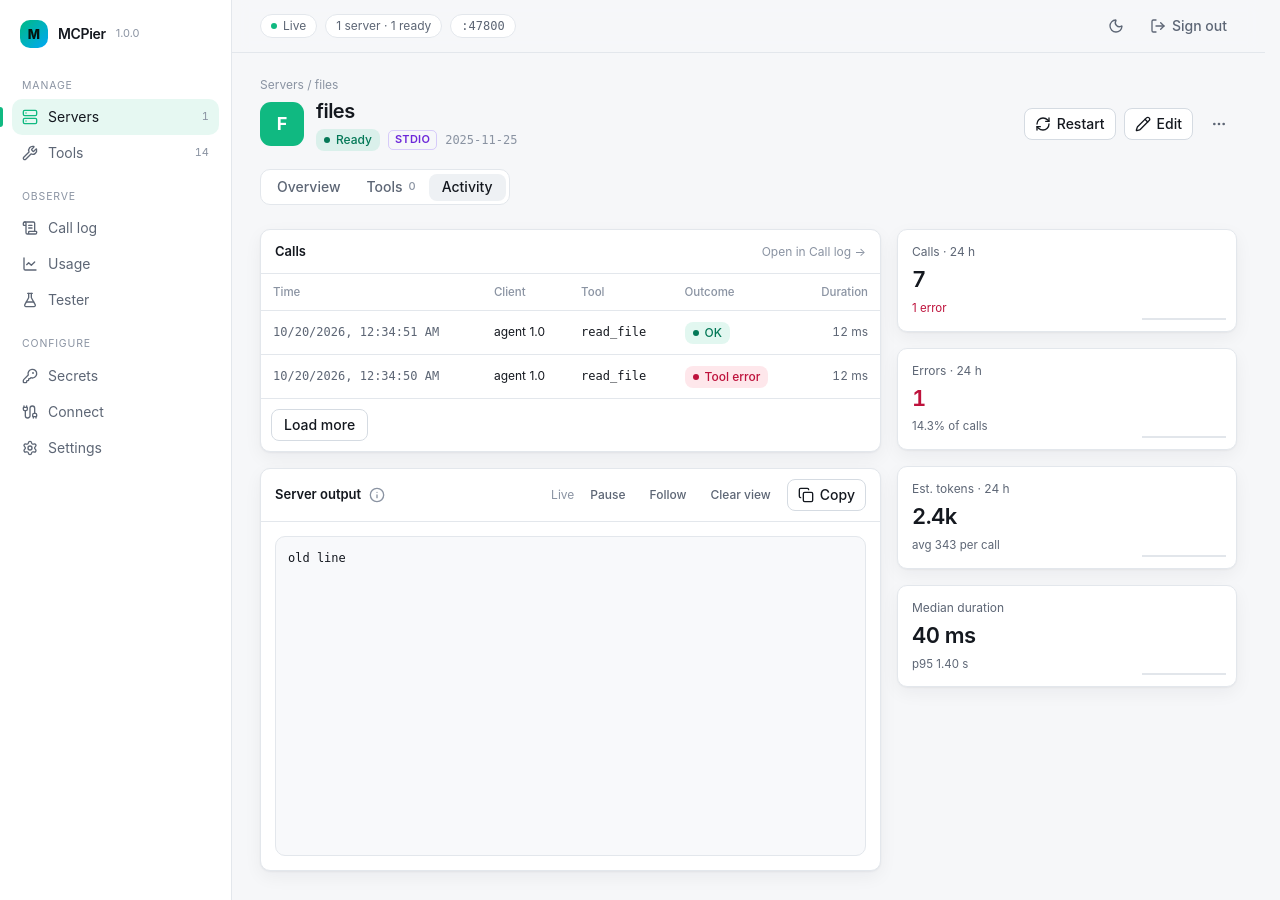
Test: Activity tab: calls › Load more fetches the next page with the cursor and appends it
The width and height of the screenshot is (1280, 900).
Click the button "Load more": [320, 424] box x1=271 y1=408 x2=368 y2=440
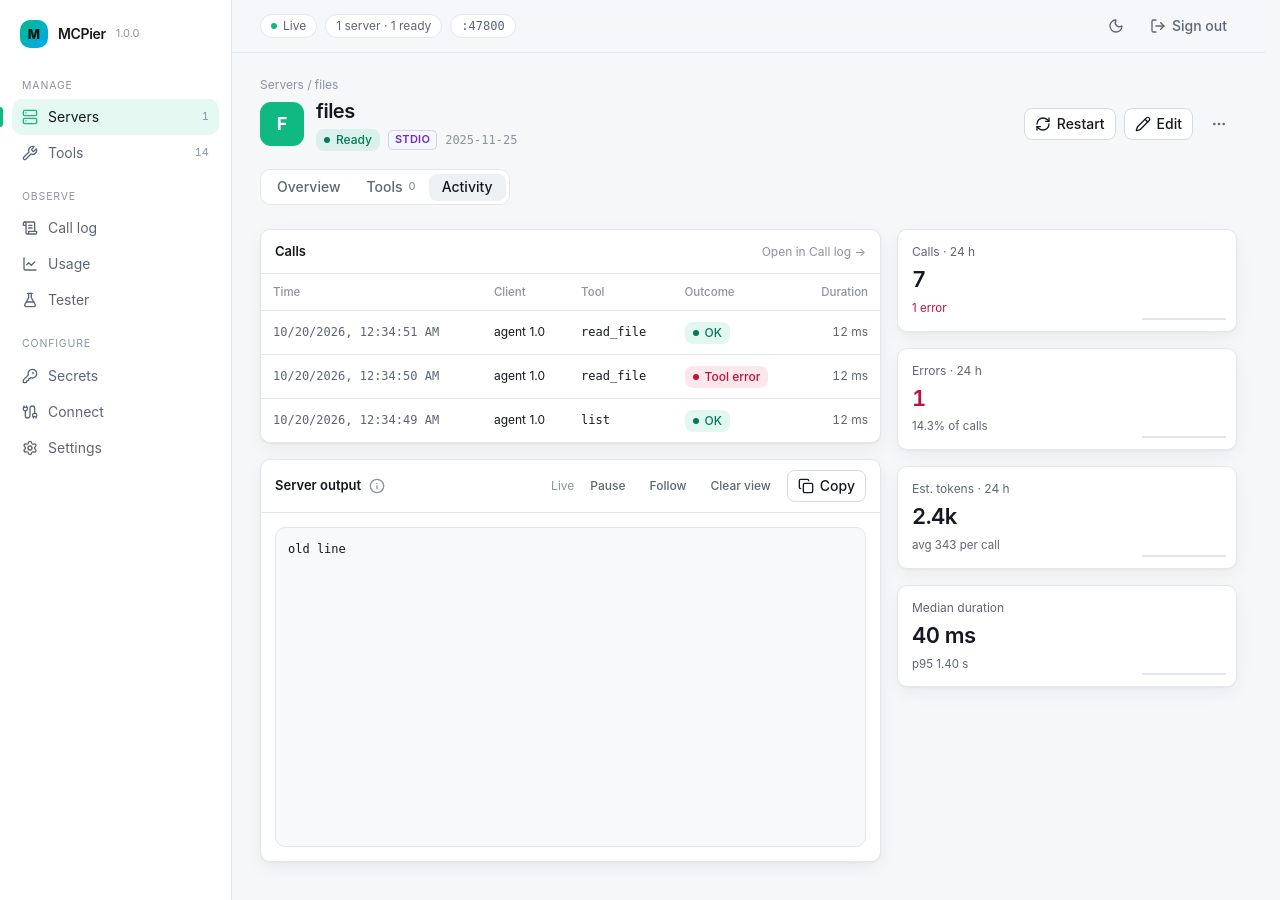
Result: the number of rows is 4 at x1=261 y1=274 x2=880 y2=310; x1=261 y1=310 x2=880 y2=354; x1=261 y1=354 x2=880 y2=398; x1=261 y1=398 x2=880 y2=442
Result: the button "Load more" is gone
